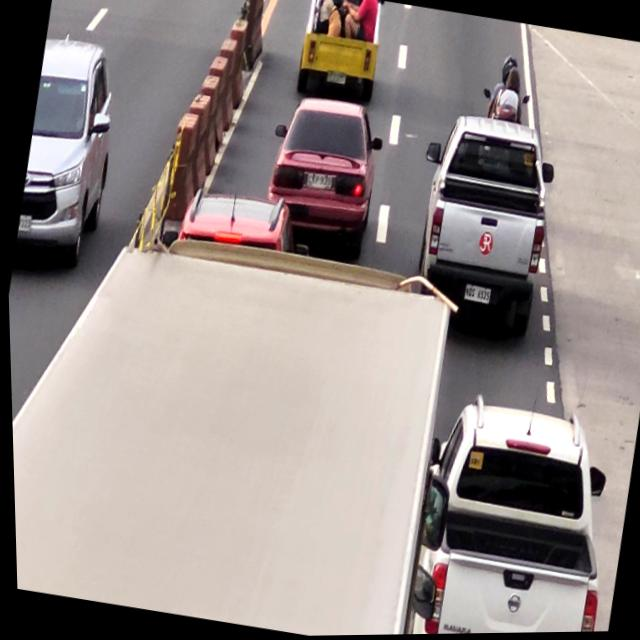Car: (399, 396, 631, 635), (408, 114, 559, 327), (259, 91, 386, 245)
License-Plate: (459, 281, 490, 308), (302, 170, 333, 195)
